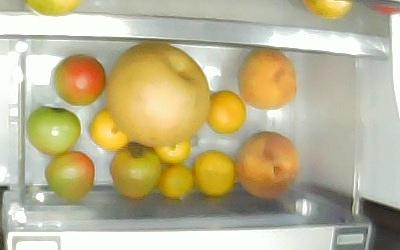peach: (232, 130, 299, 198), (236, 48, 297, 110)
pear: (105, 41, 210, 147)
tangerine: (190, 149, 235, 196), (88, 106, 133, 150), (204, 89, 246, 134), (156, 162, 194, 198), (151, 138, 191, 163)
tomato: (108, 140, 163, 198), (25, 104, 81, 156), (52, 52, 106, 105), (43, 150, 95, 201)
